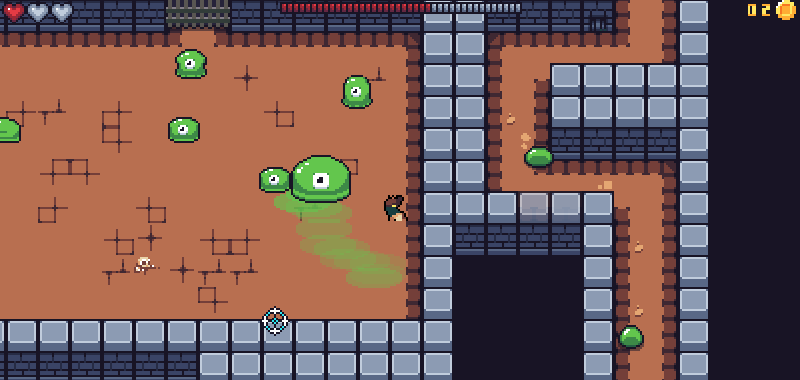enemy_slug: (617, 324, 646, 351), (522, 145, 553, 169)
enemy_slug_big: (340, 74, 374, 110), (174, 49, 208, 80), (166, 115, 200, 144), (257, 165, 290, 193), (1, 119, 23, 144)
enemy_slug_boss: (289, 152, 353, 204)
trap_door: (163, 1, 232, 33)
